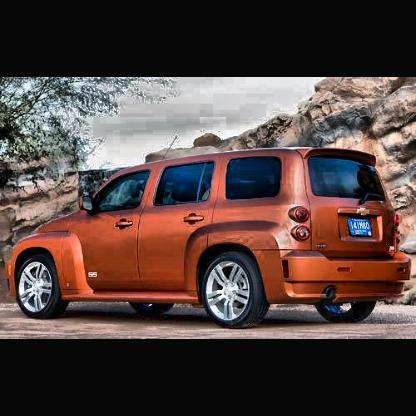Chevrolet HHR SS 2010: (6, 143, 416, 331)
